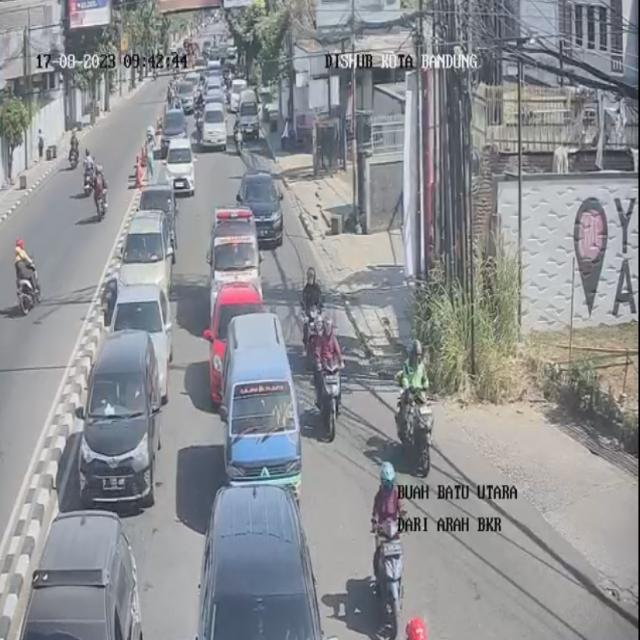cars: (205, 484, 332, 640), (18, 507, 142, 638), (223, 306, 304, 500), (78, 324, 160, 503), (110, 270, 172, 392), (210, 287, 266, 404), (119, 208, 174, 306), (206, 208, 257, 306), (240, 168, 282, 249), (143, 170, 181, 247), (164, 137, 194, 199), (204, 99, 228, 150)
motorcycle: (390, 335, 442, 480), (368, 467, 408, 617), (319, 313, 349, 431), (299, 266, 326, 359), (401, 612, 448, 640), (141, 127, 156, 169)
